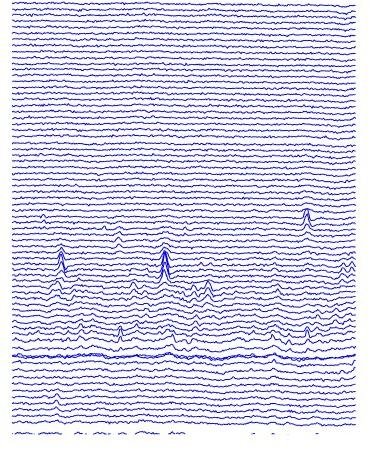defect: (54, 243, 69, 295), (187, 279, 218, 304), (159, 243, 173, 288), (337, 255, 355, 287), (300, 321, 319, 351), (109, 320, 129, 345), (300, 205, 313, 235), (271, 275, 285, 301), (112, 222, 123, 253), (127, 282, 139, 298)
